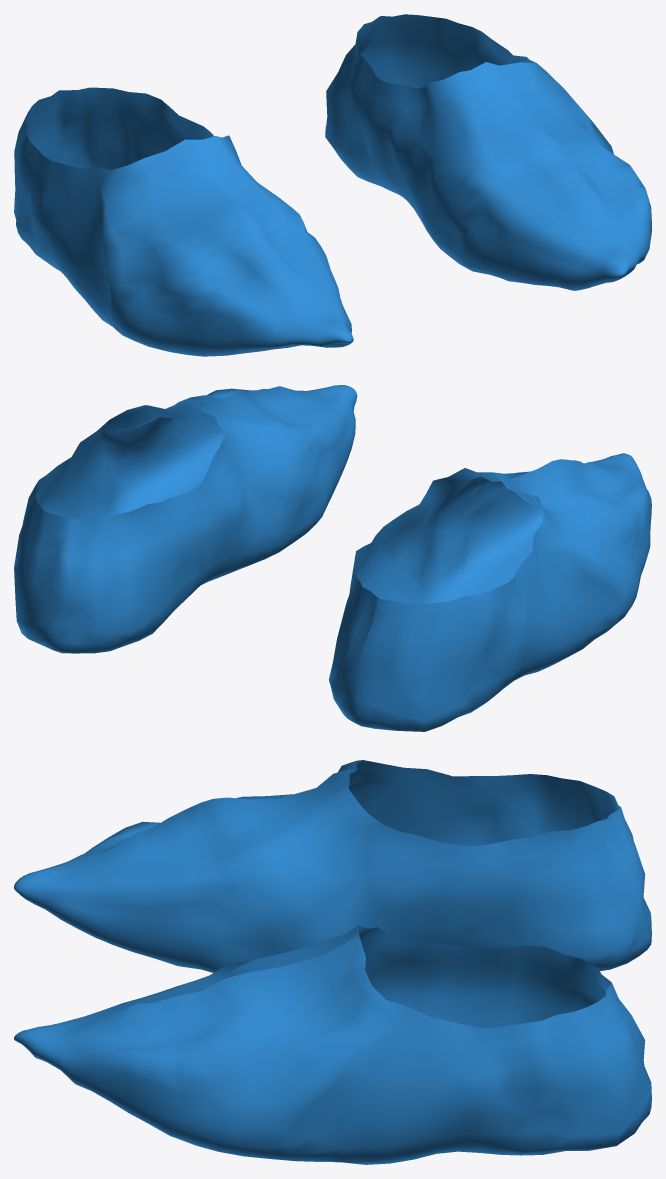
File: boot-cover-model.fbx
The picture shows the model from 3 angles, top to bottom: view 1: azimuth 30°, elevation 25°; view 2: azimuth 150°, elevation 25°; view 3: azimuth 270°, elevation 25°; orthographic projection. The views are drawn at different scales.
Parts seen in each view (by area): view 1: Recovered_Tool; view 2: Recovered_Tool; view 3: Recovered_Tool.
Part boxes in pixels (x1,y1,x2,y2): Recovered_Tool: (14,14,651,356); Recovered_Tool: (14,385,651,731); Recovered_Tool: (14,760,651,1164).
Size of the model in its own units: 406 by 130 by 391.
1 material, 1 textured.
